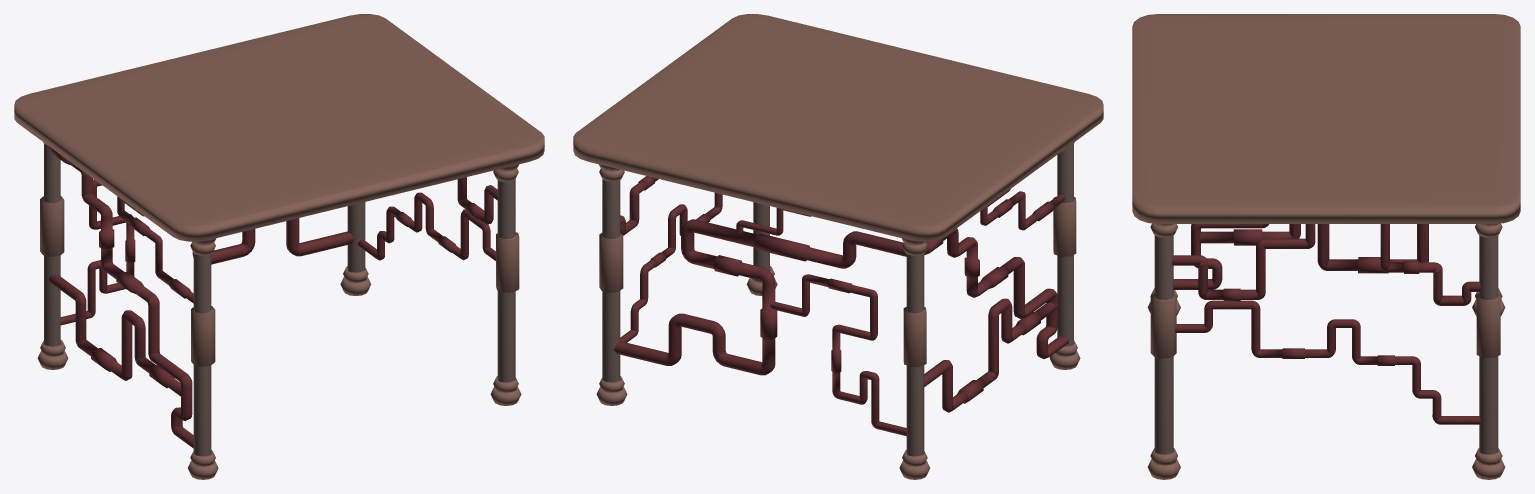
File: table02.fbx
The picture shows the model from 3 angles, left to right: view 1: azimuth 30°, elevation 25°; view 2: azimuth 150°, elevation 25°; view 3: azimuth 270°, elevation 25°; orthographic projection. The views are drawn at different scales.
Parts seen in each view (by area): view 1: table, table_leg02, pipe_02, table_leg_part01, table_leg01, pipe_06, pipe_07, pipe_01, pipe_04, table_leg_part03, pipe_03, table_leg_part02 (+1 smaller); view 2: table, pipe_01, table_leg02, table_leg_part01, pipe_02, pipe_04, table_leg01, pipe_06, pipe_07, table_leg_part03, pipe_03, table_leg_part02 (+2 smaller); view 3: table, table_leg01, pipe_07, pipe_08, pipe_06, table_leg_part01, pipe_02, table_leg_part03, table_leg_part02, table_leg_part05.
Part boxes in pixels (x1,y1,x2,y2): table: (14,14,544,241); table_leg02: (44,144,211,456); pipe_02: (49,146,193,448); table_leg_part01: (40,196,519,366); table_leg01: (347,179,515,382); pipe_06: (49,274,182,397); pipe_07: (358,192,495,260); pipe_01: (192,218,354,264); pipe_04: (60,179,135,325); table_leg_part03: (37,277,521,479); pipe_03: (117,196,193,303); table_leg_part02: (40,266,518,466); table: (573,14,1103,241); pipe_01: (613,219,906,375); table_leg02: (906,144,1073,456); table_leg_part01: (599,197,1076,366); pipe_02: (924,228,1068,358); pipe_04: (770,274,906,436); table_leg01: (602,179,769,382); pipe_06: (924,298,1057,412); pipe_07: (620,192,722,342); table_leg_part03: (596,277,1080,479); pipe_03: (980,189,1065,230); table_leg_part02: (599,266,1077,466); table: (1132,14,1520,223); table_leg01: (1154,235,1498,454); pipe_07: (1175,300,1480,424); pipe_08: (1172,224,1480,305); pipe_06: (1199,224,1428,273); table_leg_part01: (1150,293,1500,358); pipe_02: (1173,224,1268,289); table_leg_part03: (1147,299,1505,479); table_leg_part02: (1150,288,1502,465); table_leg_part05: (1150,223,1502,237).
Size of the model in its own units: 1404 by 959 by 1186.
